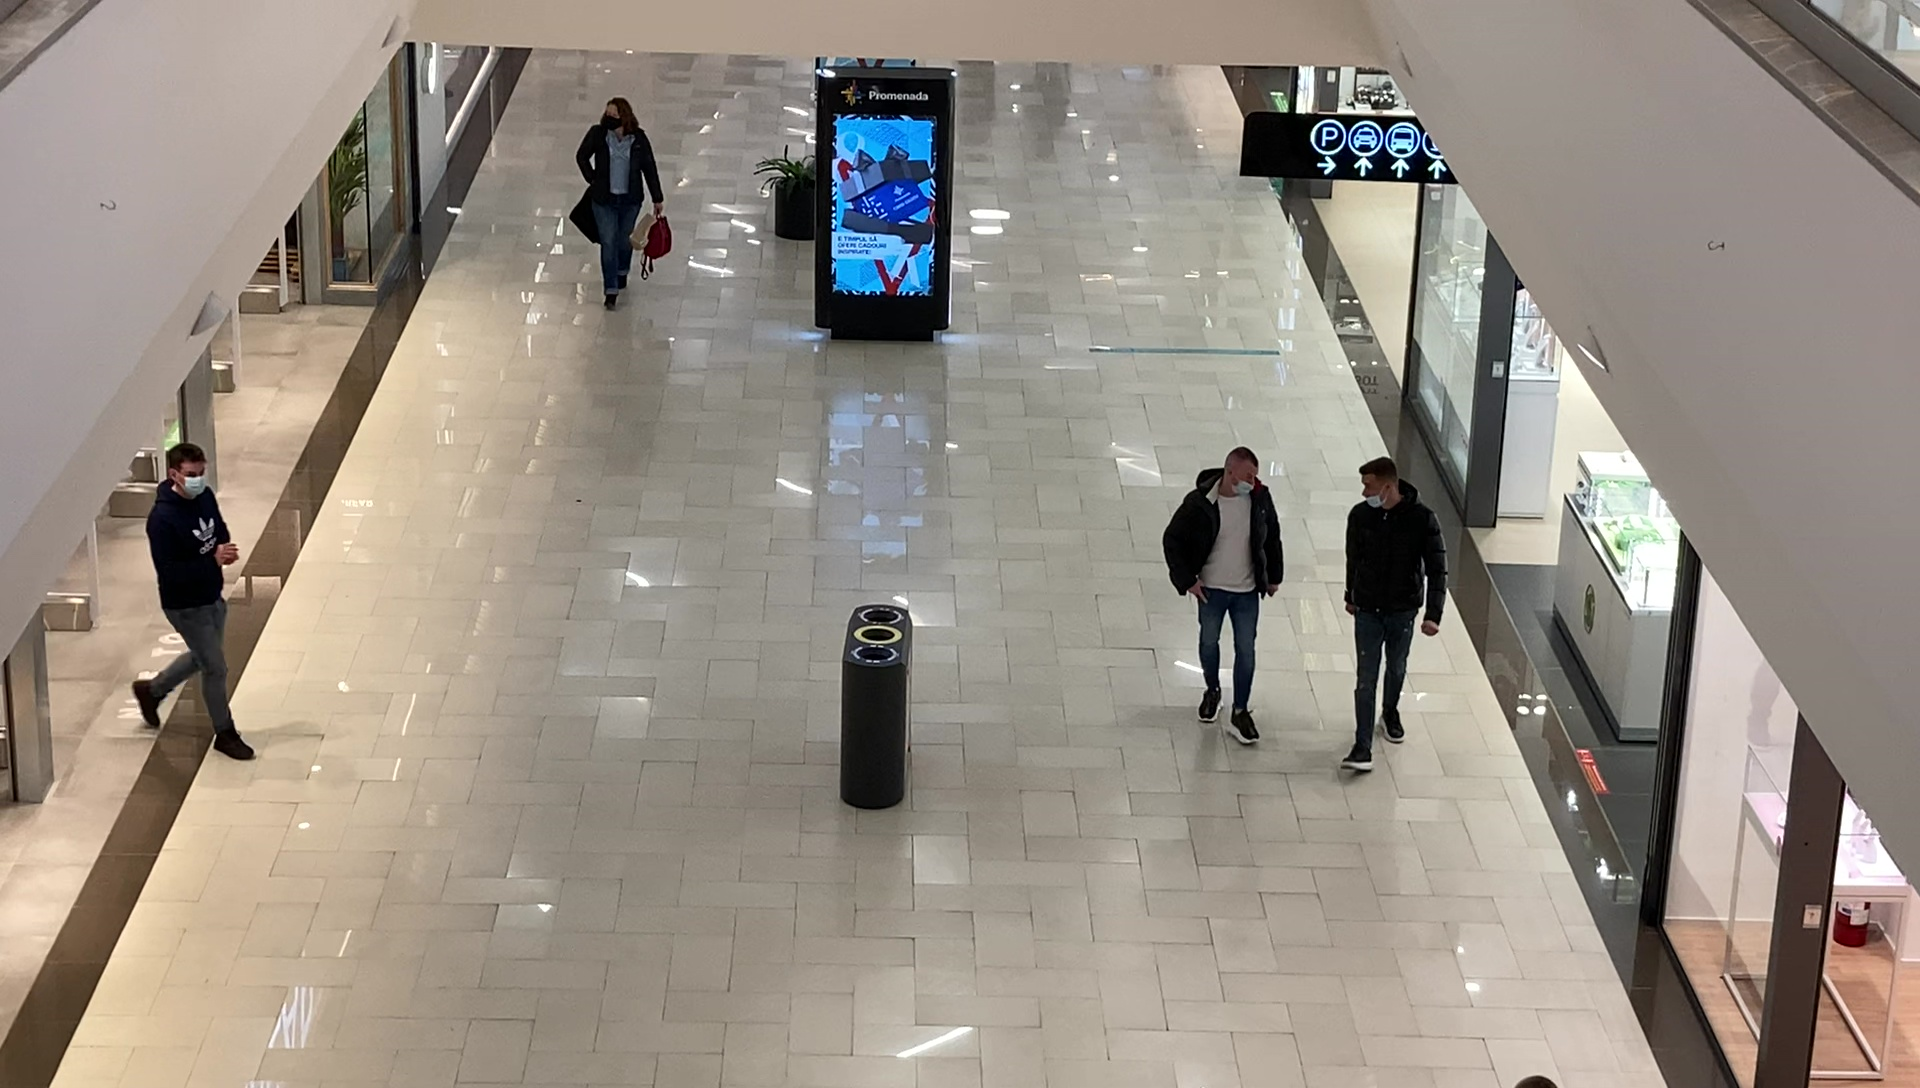person: (129, 441, 258, 764), (1161, 445, 1286, 748), (1340, 458, 1450, 777), (576, 96, 665, 311)
